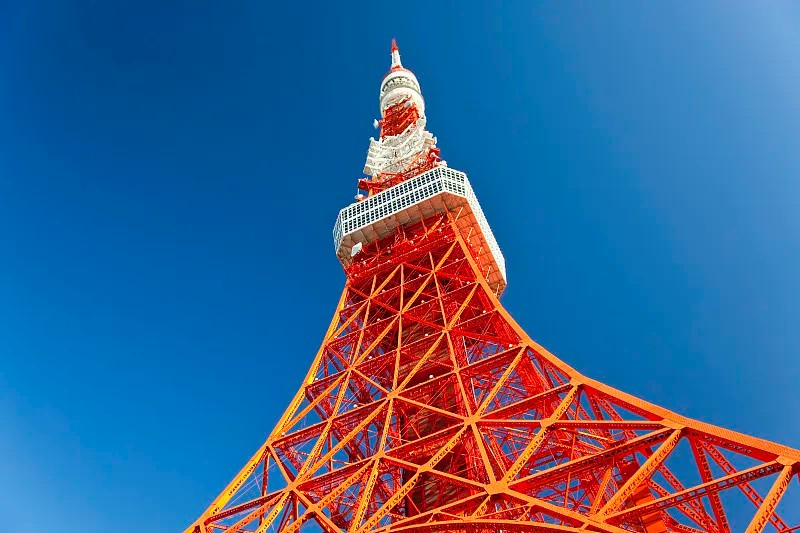Tokyo: (181, 33, 800, 532)
